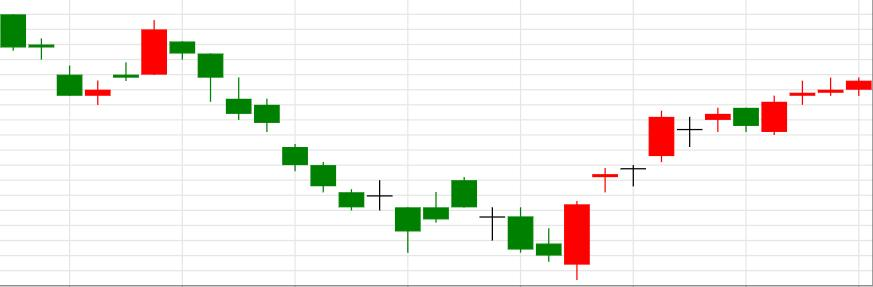bullish_engulfing_rise: (450, 176, 591, 281)
